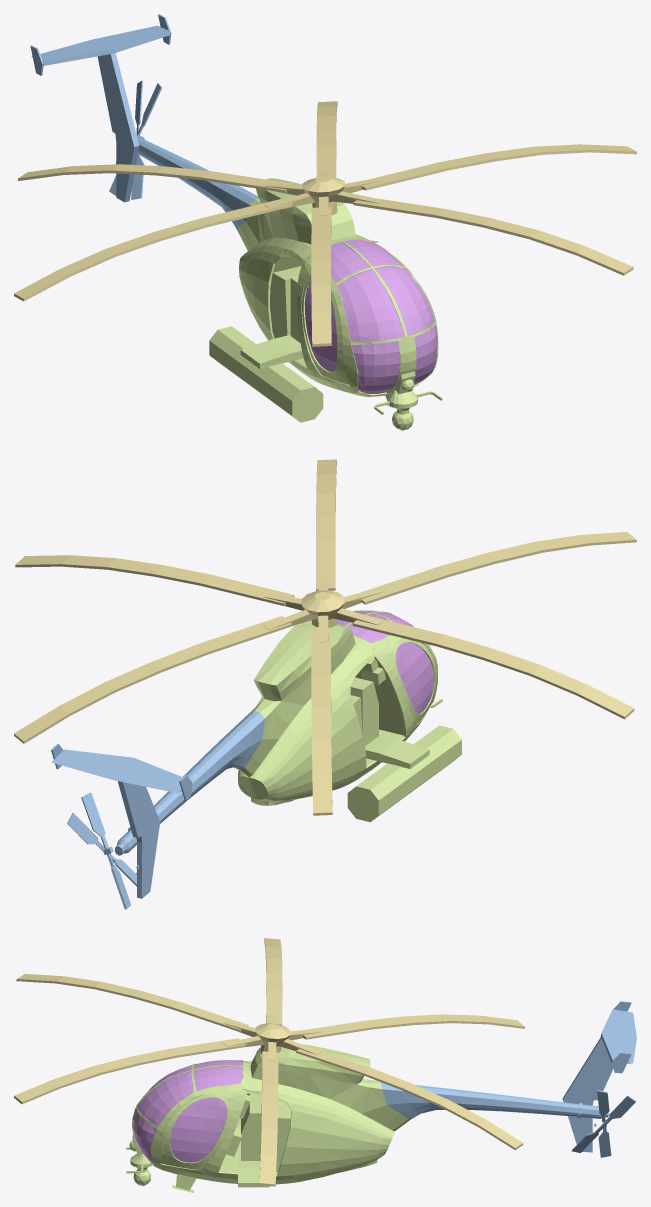
The model's file is air-rotary-littlebird--rot-03-rocketpods.glb.
3 renders of one model, top to bottom at view 1: azimuth 30°, elevation 25°; view 2: azimuth 150°, elevation 25°; view 3: azimuth 270°, elevation 25°, orthographic. The views are drawn at different scales.
Parts seen in each view (by area): view 1: CC_ROT_03_Attack, CC_ROT_03_RotorBlades, CC_ROT_03_RocketPod, CC_ROT_03_MainRotor, CC_ROT_03_BackMount, CC_ROT_03_RearRotor_Blades; view 2: CC_ROT_03_Attack, CC_ROT_03_RotorBlades, CC_ROT_03_RocketPod, CC_ROT_03_MainRotor, CC_ROT_03_BackMount, CC_ROT_03_RearRotor_Blades; view 3: CC_ROT_03_Attack, CC_ROT_03_RotorBlades, CC_ROT_03_BackMount, CC_ROT_03_MainRotor, CC_ROT_03_RearRotor_Blades.
Boxes of the visible parts, <box> form: CC_ROT_03_Attack: <box>30,14,442,430</box>; CC_ROT_03_RotorBlades: <box>14,101,636,346</box>; CC_ROT_03_RocketPod: <box>209,326,323,422</box>; CC_ROT_03_MainRotor: <box>264,170,383,216</box>; CC_ROT_03_BackMount: <box>240,276,303,368</box>; CC_ROT_03_RearRotor_Blades: <box>109,80,161,199</box>; CC_ROT_03_Attack: <box>51,610,442,898</box>; CC_ROT_03_RotorBlades: <box>14,459,636,815</box>; CC_ROT_03_RocketPod: <box>347,725,461,822</box>; CC_ROT_03_MainRotor: <box>264,575,383,642</box>; CC_ROT_03_BackMount: <box>350,677,429,768</box>; CC_ROT_03_RearRotor_Blades: <box>67,792,136,909</box>; CC_ROT_03_Attack: <box>126,1001,636,1192</box>; CC_ROT_03_RotorBlades: <box>14,938,524,1186</box>; CC_ROT_03_BackMount: <box>238,1093,269,1187</box>; CC_ROT_03_MainRotor: <box>223,1014,320,1061</box>; CC_ROT_03_RearRotor_Blades: <box>571,1090,636,1157</box>.
Size of the model in its own units: 8.35 by 2.53 by 8.95.
